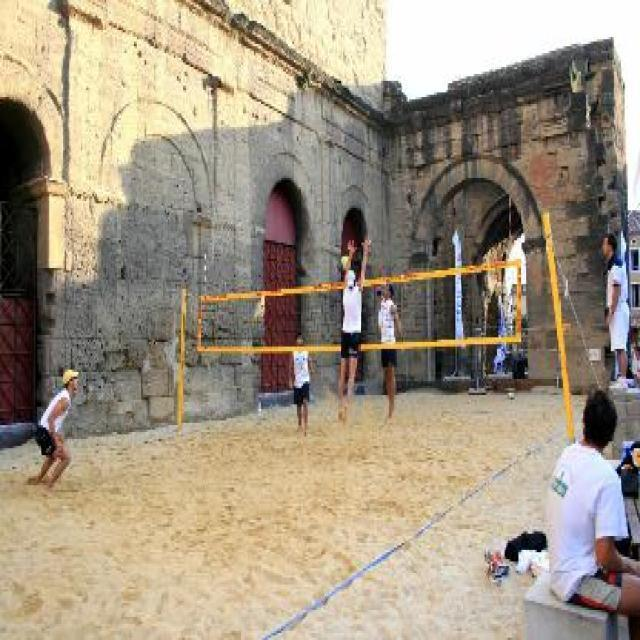volleyball: (337, 255, 348, 268)
